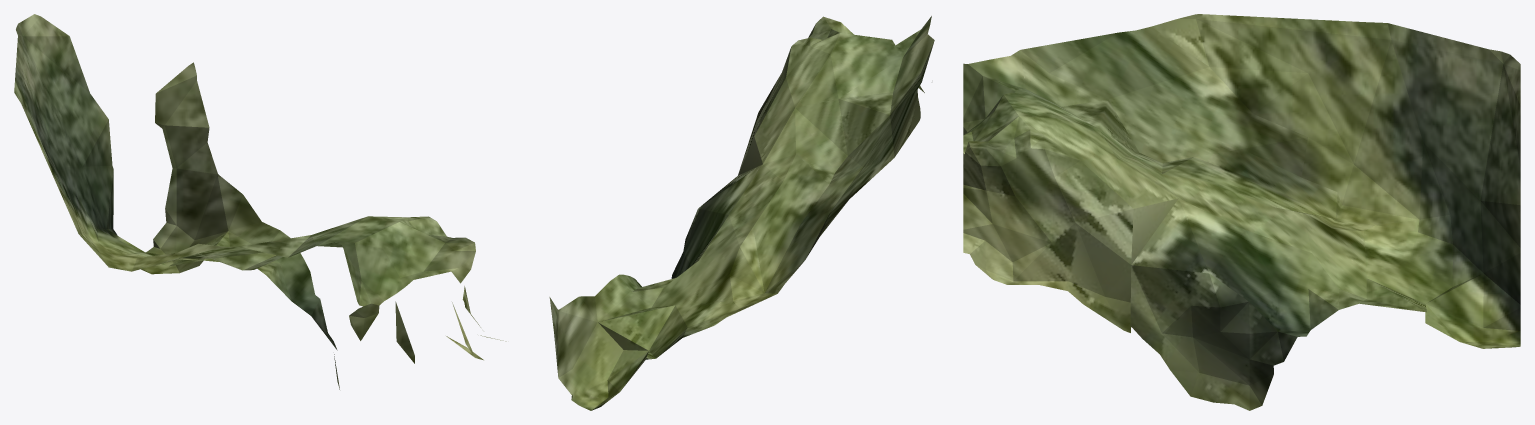
3 views of the same model, side by side, from view 1: azimuth 30°, elevation 25°; view 2: azimuth 150°, elevation 25°; view 3: azimuth 270°, elevation 25° (orthographic). The views are drawn at different scales.
Size of the model in its own units: 2.98 by 3.25 by 5.9.
2 materials, 2 textured.
